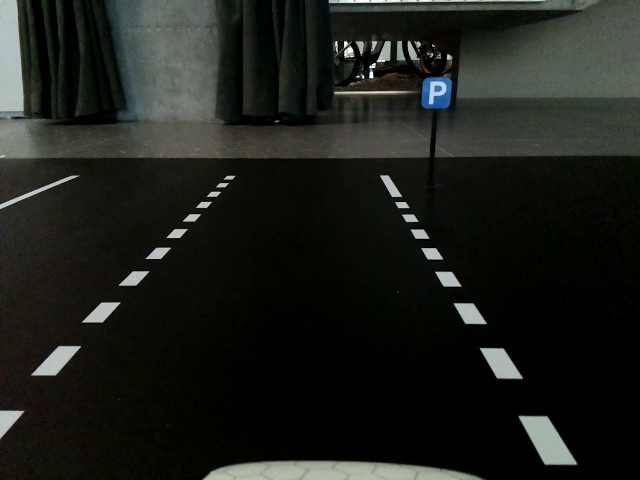park: (421, 79, 451, 110)
